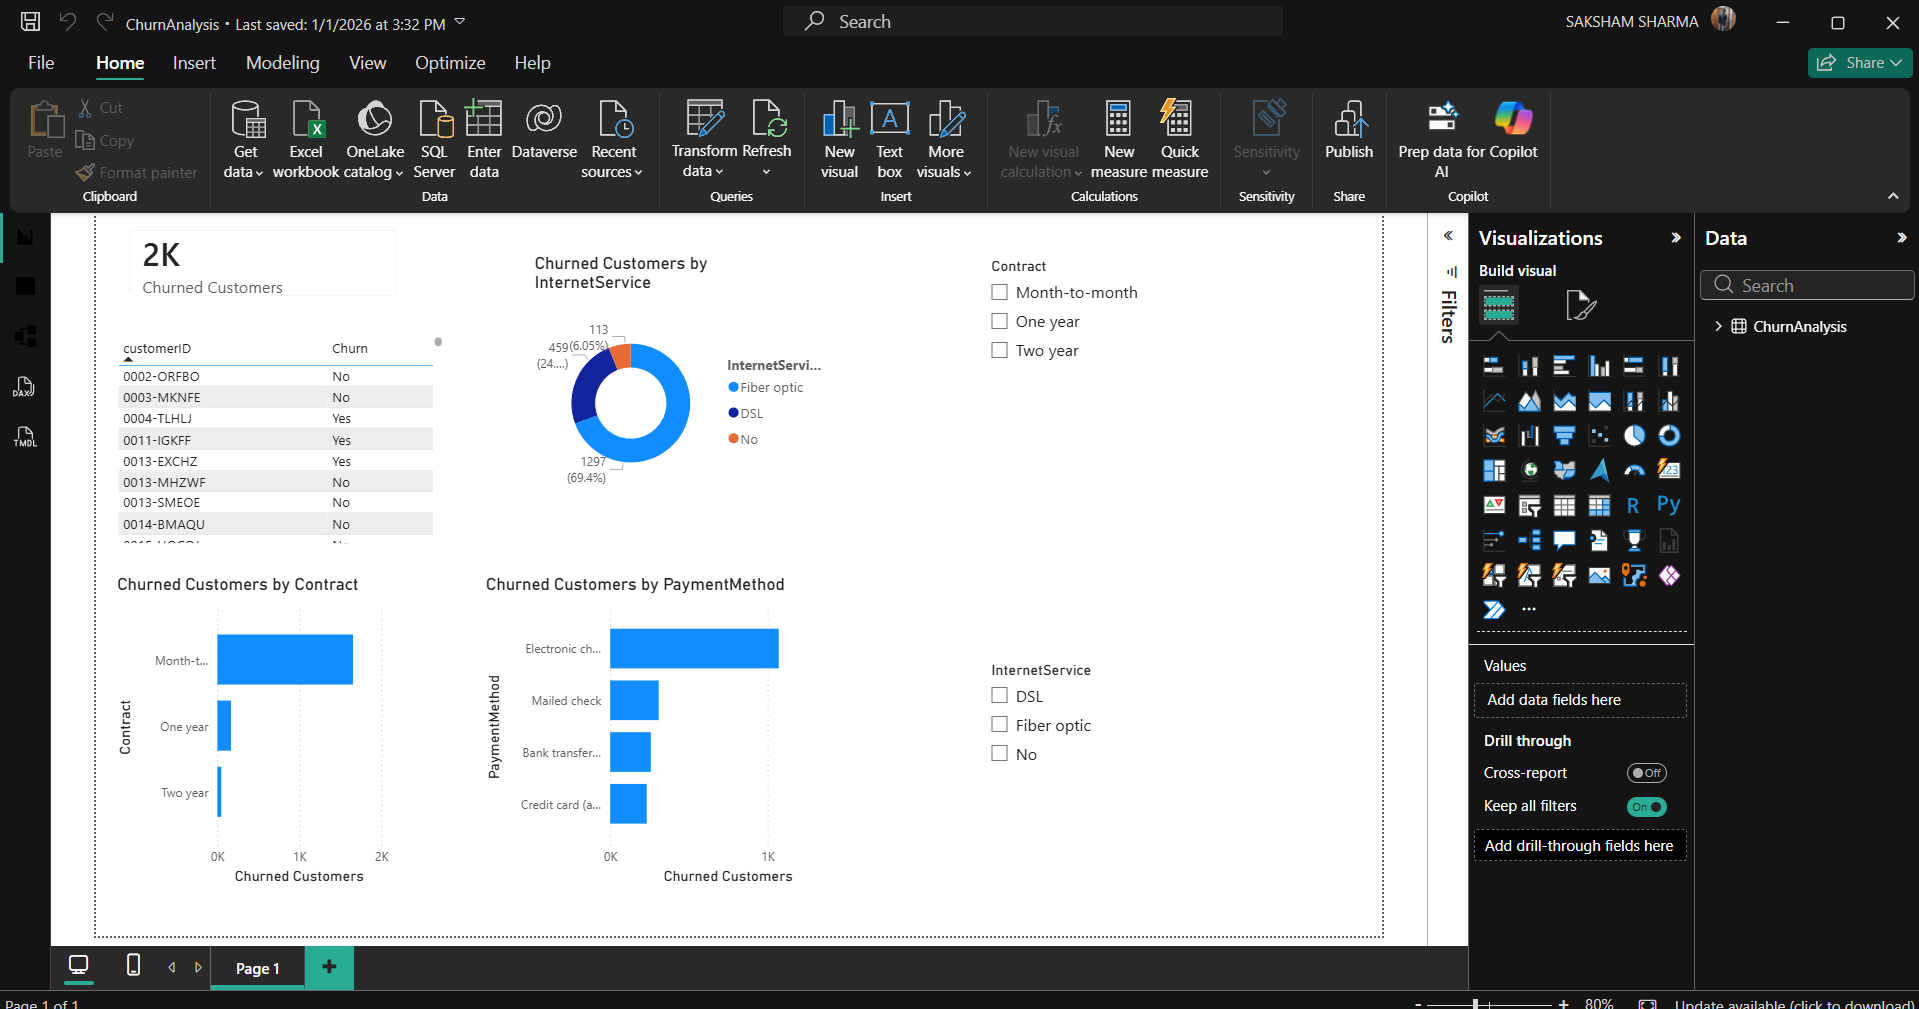

The page's visual inventory and layout, read from the dashboard file:
{"tool":"powerbi","page":{"name":"Page 1","canvas":[1280,720],"ordinal":0},"visuals":[{"type":"tableEx","fields":{"Values":["ChurnAnalysis.customerID","ChurnAnalysis.Churn"]},"box":[16.2,118.8,333.8,215],"z":0},{"type":"clusteredBarChart","fields":{"Category":["ChurnAnalysis.Contract"],"Y":["ChurnAnalysis.Churned Customers"]},"box":[16.2,359.5,279.9,313.5],"z":1000},{"type":"donutChart","fields":{"Category":["ChurnAnalysis.InternetService"],"Y":["ChurnAnalysis.Churned Customers"]},"box":[431.7,39.8,298.6,257.5],"z":2000},{"type":"clusteredBarChart","fields":{"Category":["ChurnAnalysis.PaymentMethod"],"Y":["ChurnAnalysis.Churned Customers"]},"box":[383.1,359.5,375.7,313.5],"z":3000},{"type":"slicer","fields":{"Values":["ChurnAnalysis.Contract"]},"box":[878.2,39.8,279.9,257.5],"z":4000},{"type":"slicer","fields":{"Values":["ChurnAnalysis.InternetService"]},"box":[878.2,441.6,279.9,256.3],"z":5000},{"type":"cardVisual","fields":{"Data":["ChurnAnalysis.Churned Customers"]},"box":[16.2,0,300,100],"z":6000}]}

Visuals, with their boxes on the page's 1280x720 design canvas (x1, y1, x2, y2). These are canvas units, not pixel positions in the 1919x1009 screenshot, which may show the page scaled, cropped or inside an application window:
tableEx - ChurnAnalysis.customerID x ChurnAnalysis.Churn: locate(16, 119, 350, 334)
clusteredBarChart - ChurnAnalysis.Contract x ChurnAnalysis.Churned Customers: locate(16, 360, 296, 673)
donutChart - ChurnAnalysis.InternetService x ChurnAnalysis.Churned Customers: locate(432, 40, 730, 297)
clusteredBarChart - ChurnAnalysis.PaymentMethod x ChurnAnalysis.Churned Customers: locate(383, 360, 759, 673)
slicer - ChurnAnalysis.Contract: locate(878, 40, 1158, 297)
slicer - ChurnAnalysis.InternetService: locate(878, 442, 1158, 698)
cardVisual - ChurnAnalysis.Churned Customers: locate(16, 0, 316, 100)
